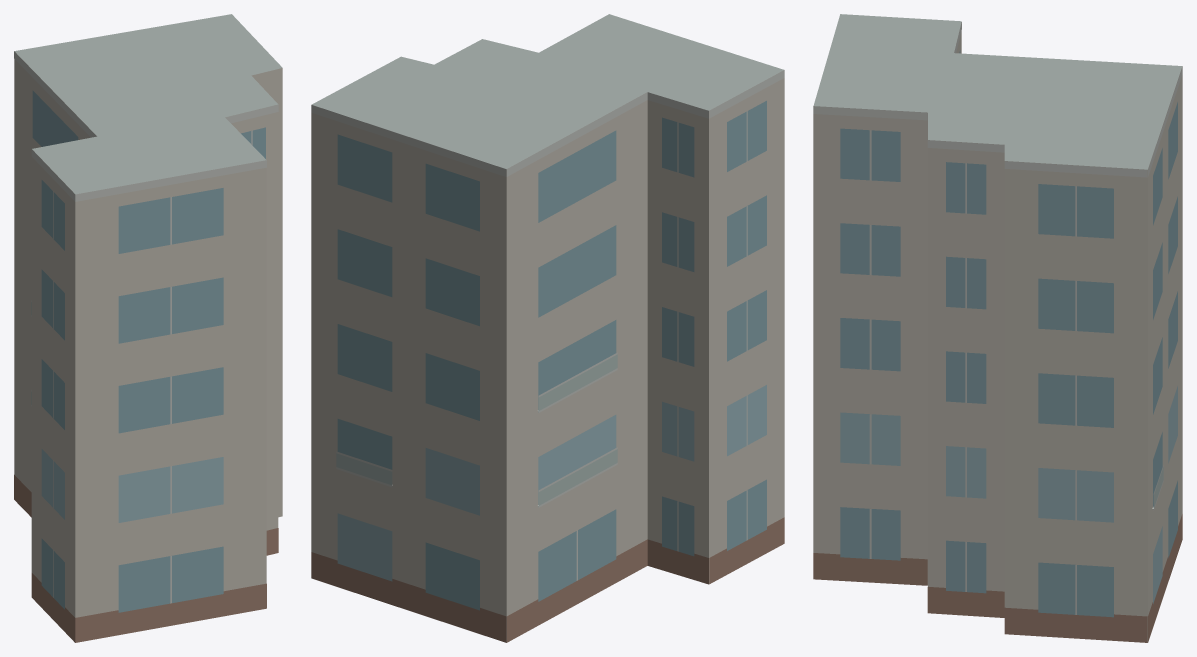
File: survey-upis-32472709.glb
The picture shows the model from 3 angles, left to right: view 1: azimuth 30°, elevation 25°; view 2: azimuth 150°, elevation 25°; view 3: azimuth 270°, elevation 25°; orthographic projection. The views are drawn at different scales.
Visible parts, largest first — view 1: survey-upis-32472709.tmp; view 2: survey-upis-32472709.tmp; view 3: survey-upis-32472709.tmp.
Boxes of the visible parts, <box> form: survey-upis-32472709.tmp: <box>14,14,282,642</box>; survey-upis-32472709.tmp: <box>311,14,784,642</box>; survey-upis-32472709.tmp: <box>813,14,1182,642</box>.
Size of the model in its own units: 10.31 by 14.6 by 10.33.
